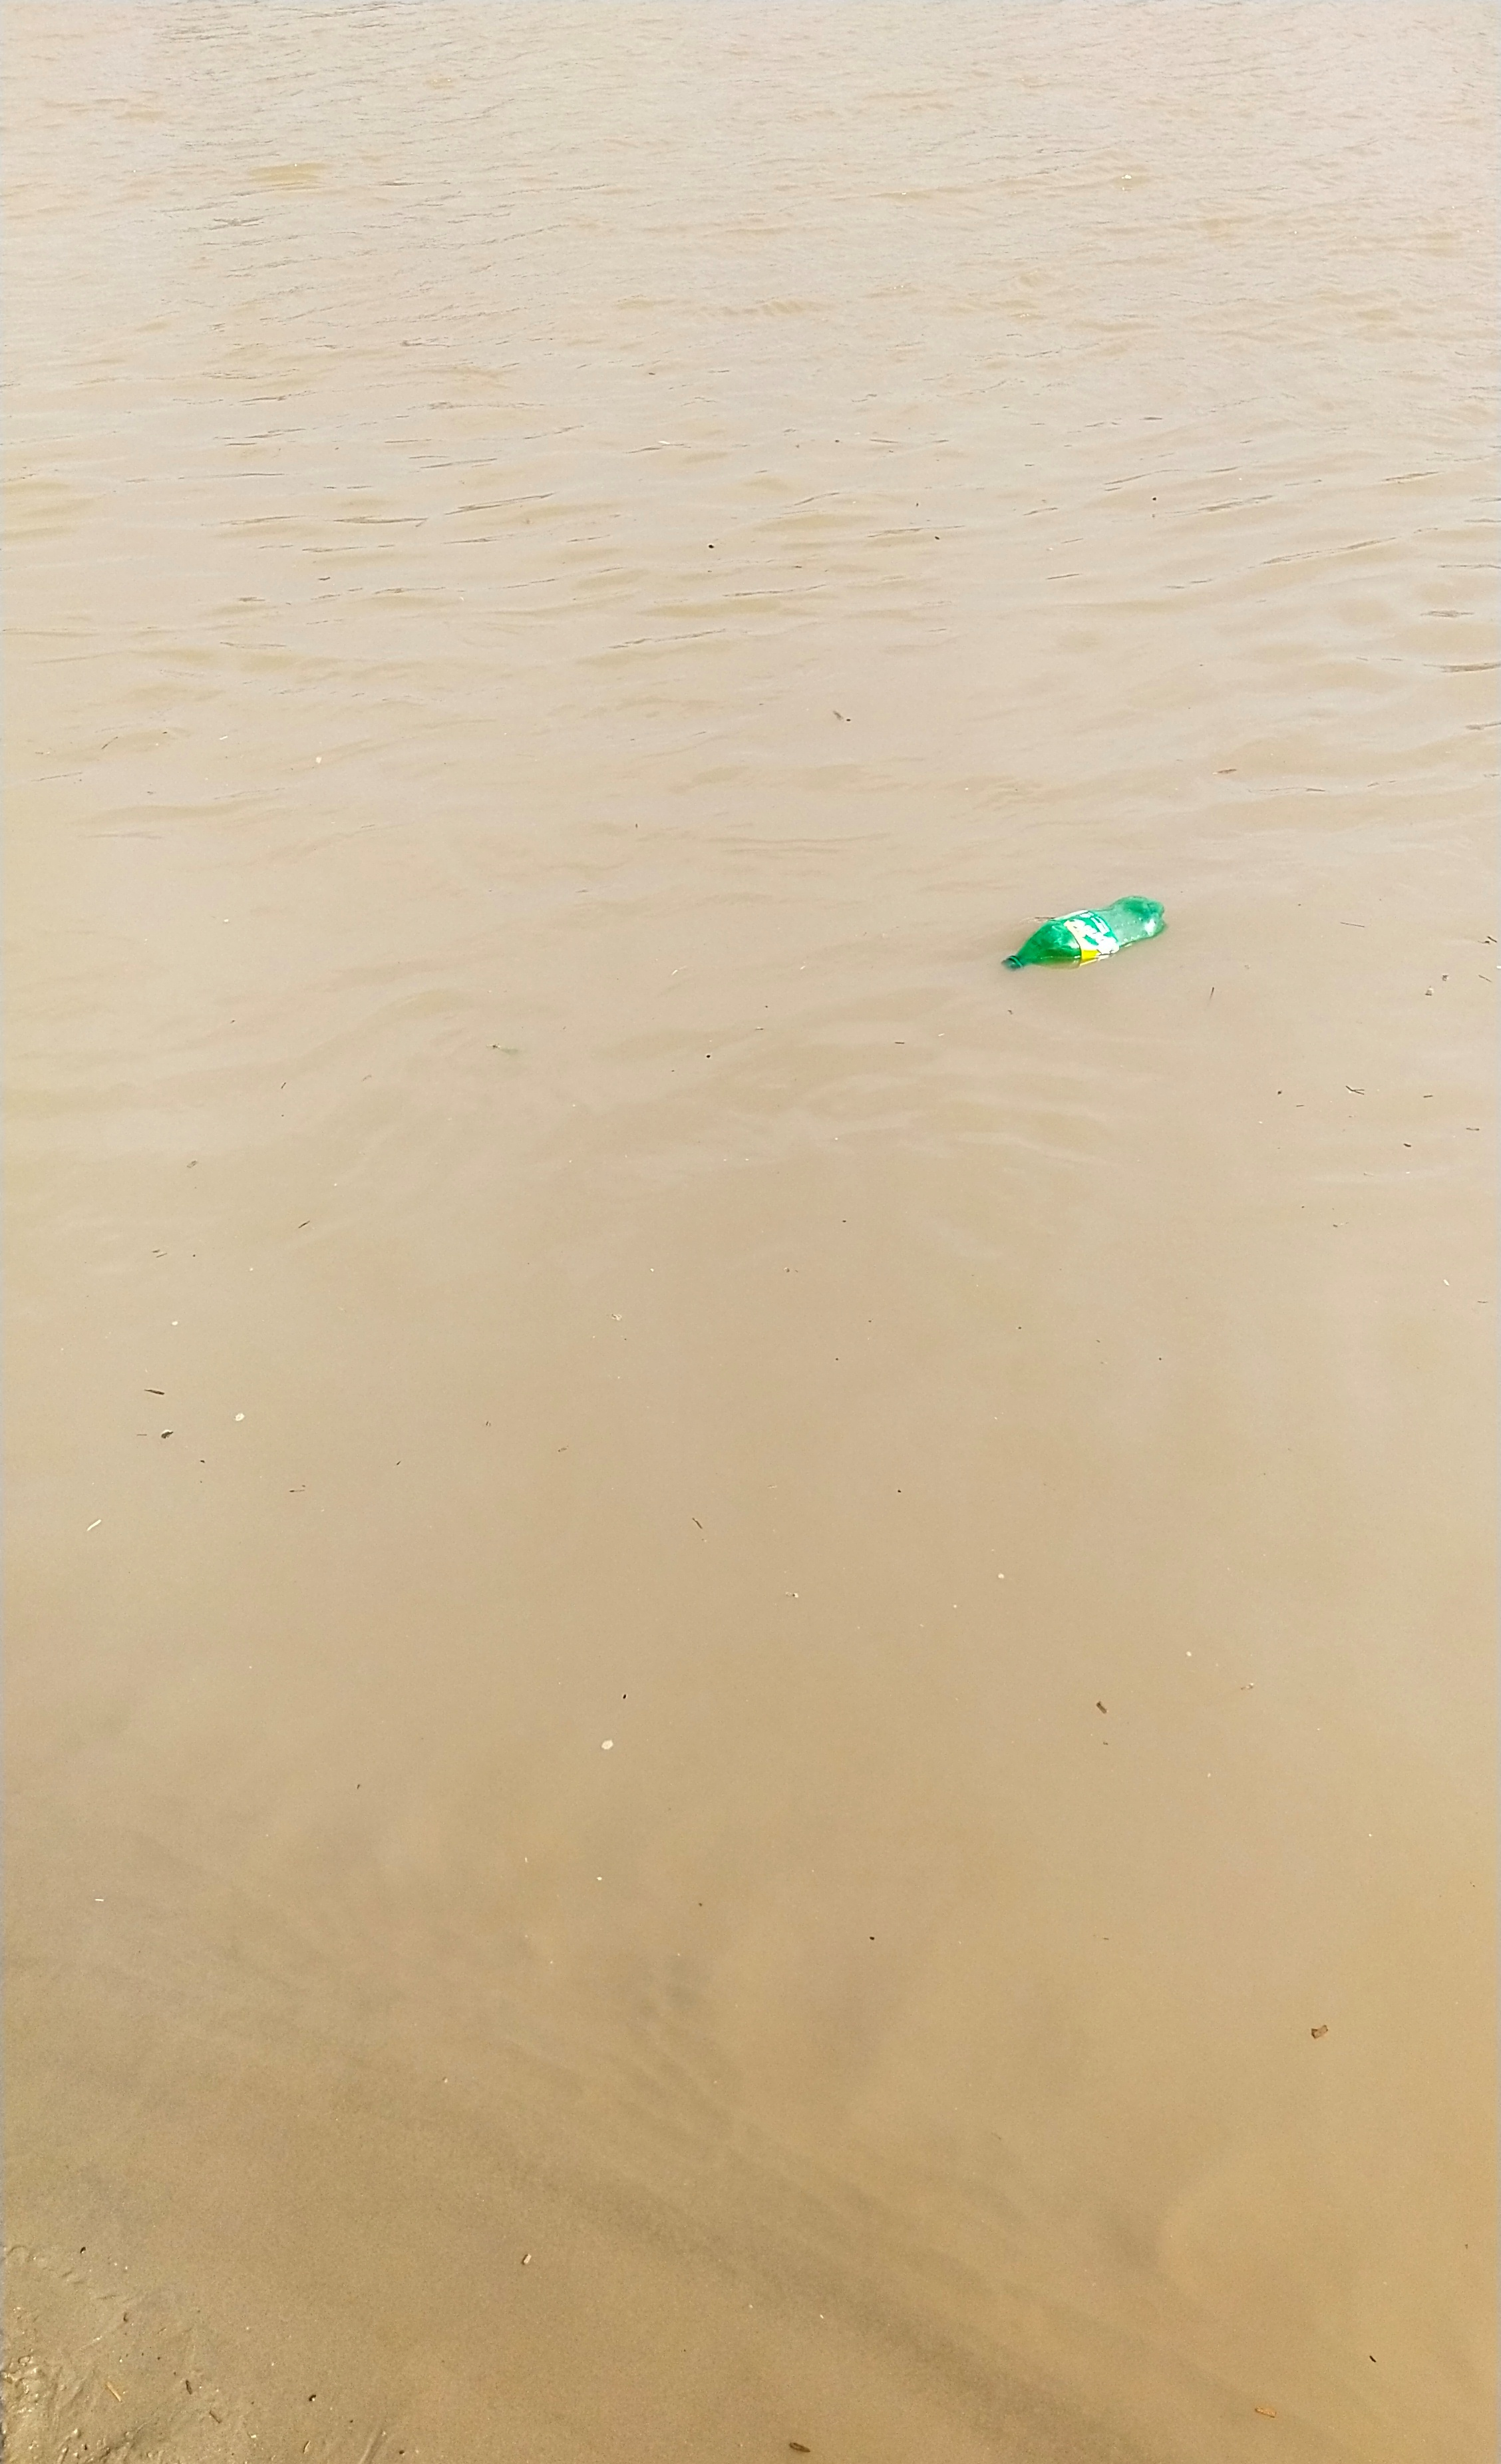Plastic Bottle: (1003, 896, 1165, 970)
